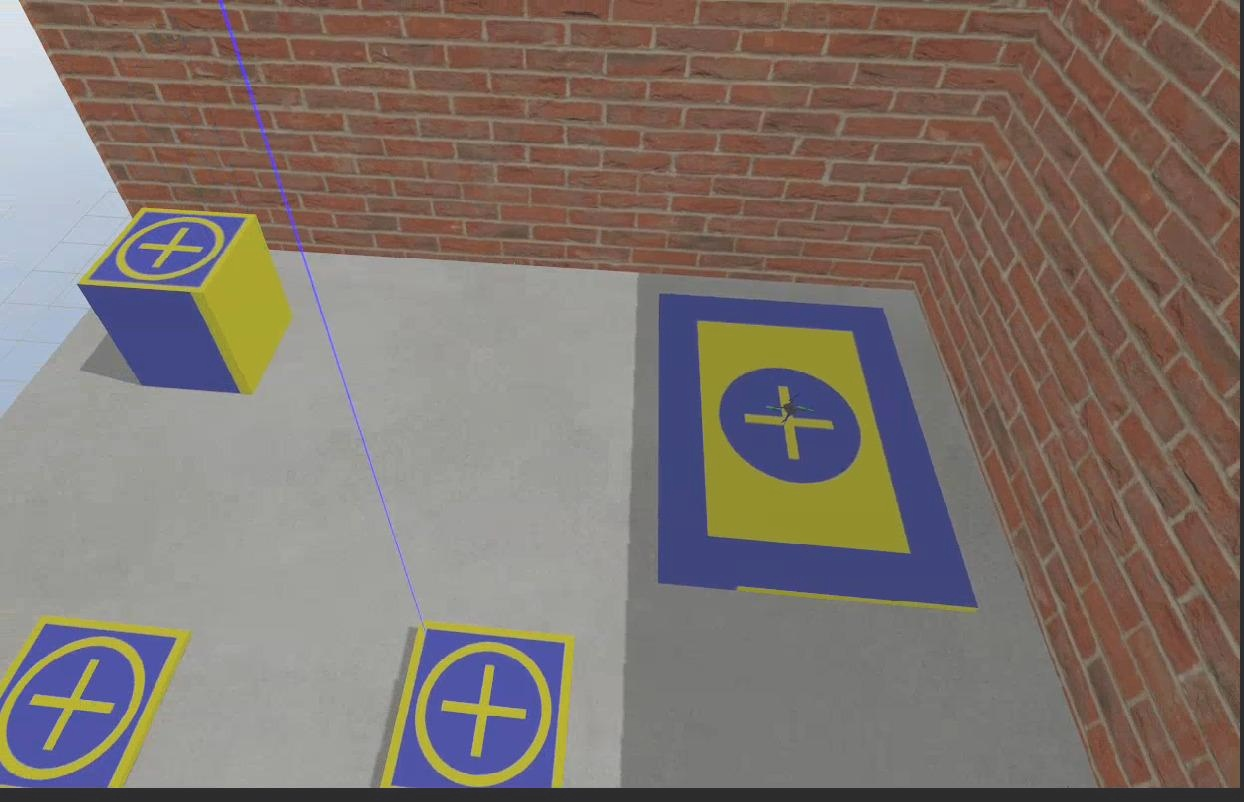large_base: (655, 288, 982, 616)
small_base: (375, 626, 575, 791), (0, 617, 186, 788), (78, 207, 258, 290)
